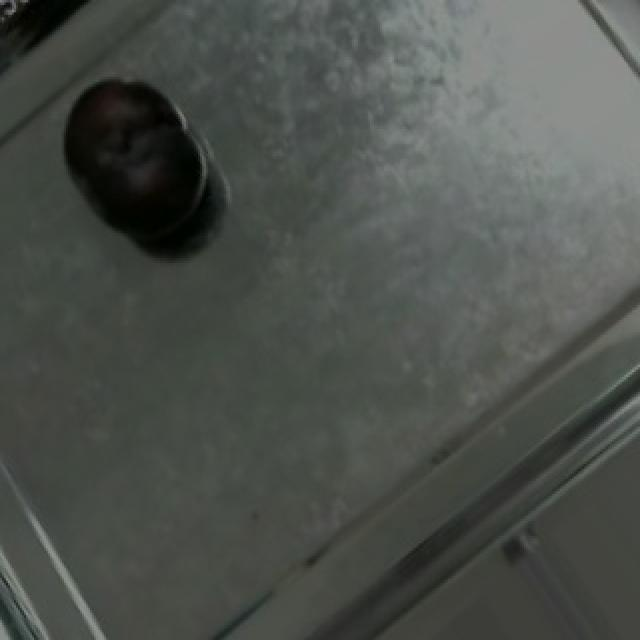Fruit: (42, 54, 226, 260)
